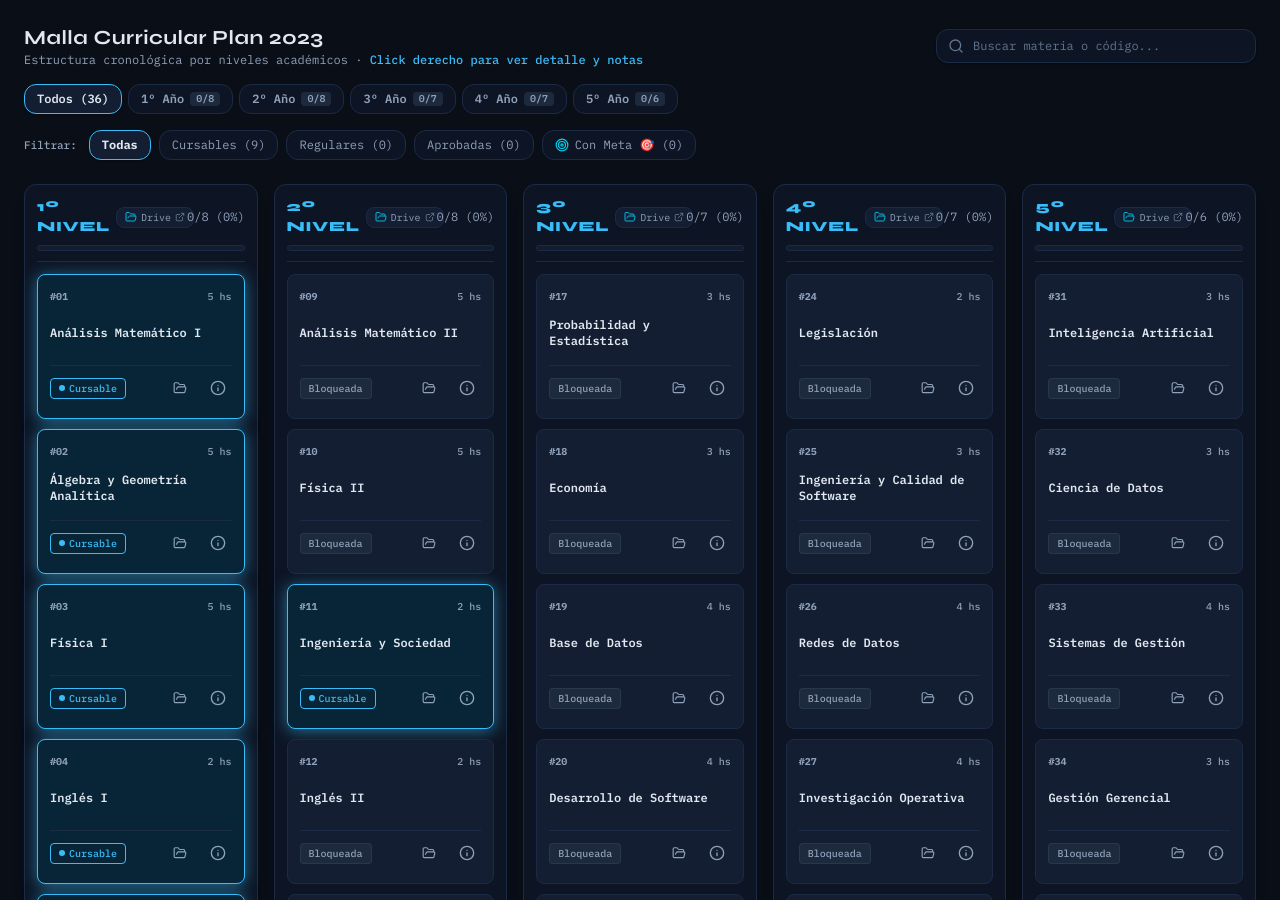
Test: Componentes de Vistas (GridView, ElectivasDrawer, GraphSkeleton) › GridView › debe permitir buscar materias por nombre o código mediante el input de búsqueda y limpiar
In the field with placeholder "Buscar materia o código...": (1096, 46) 936,29 -> 1256,63, type "Álgebra"
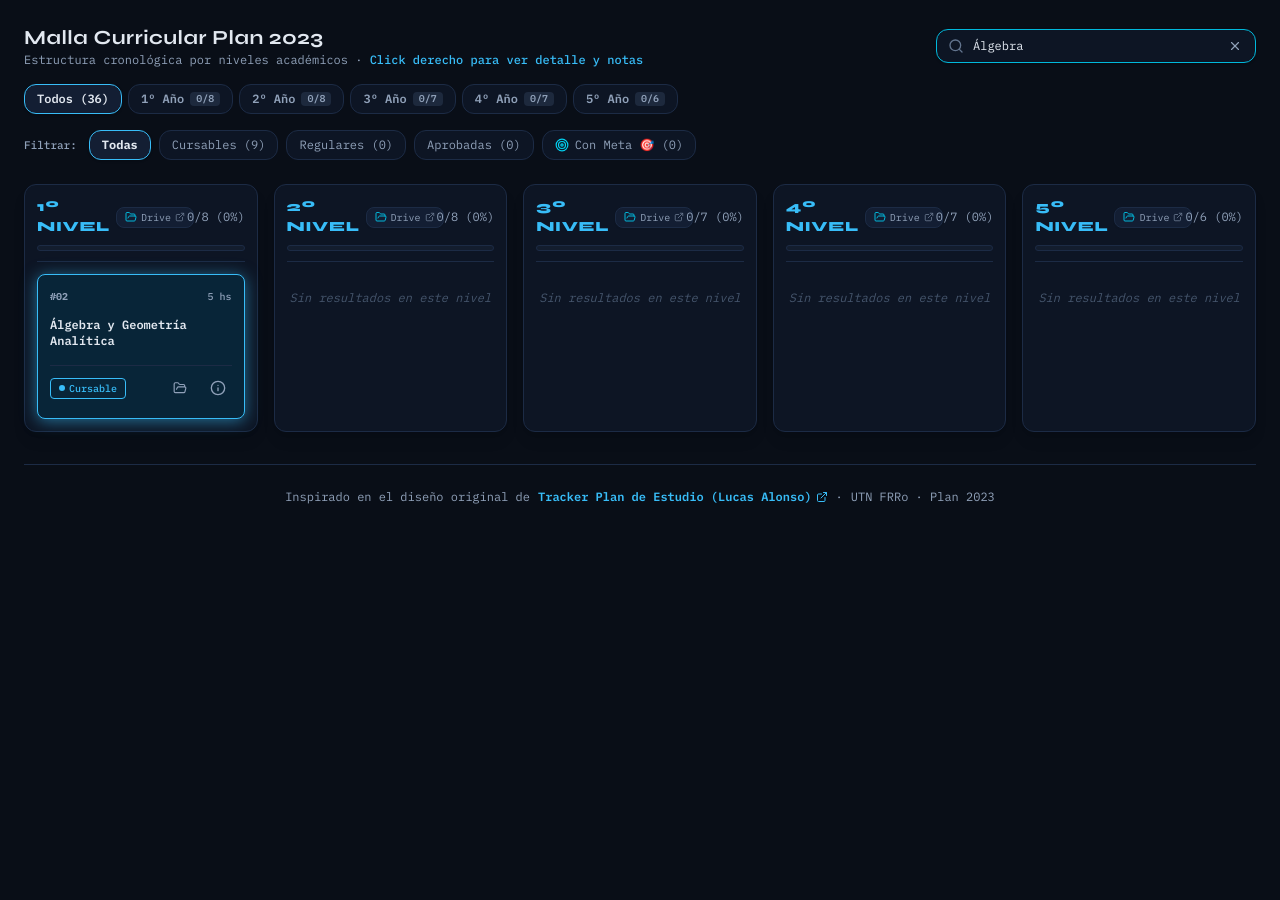
expect the text "Álgebra y Geometría Analítica" is shown: met, box 50,316 -> 187,348
// Limpiar búsqueda
Click the button named "Limpiar búsqueda": (1235, 46) 1224,35 -> 1246,57
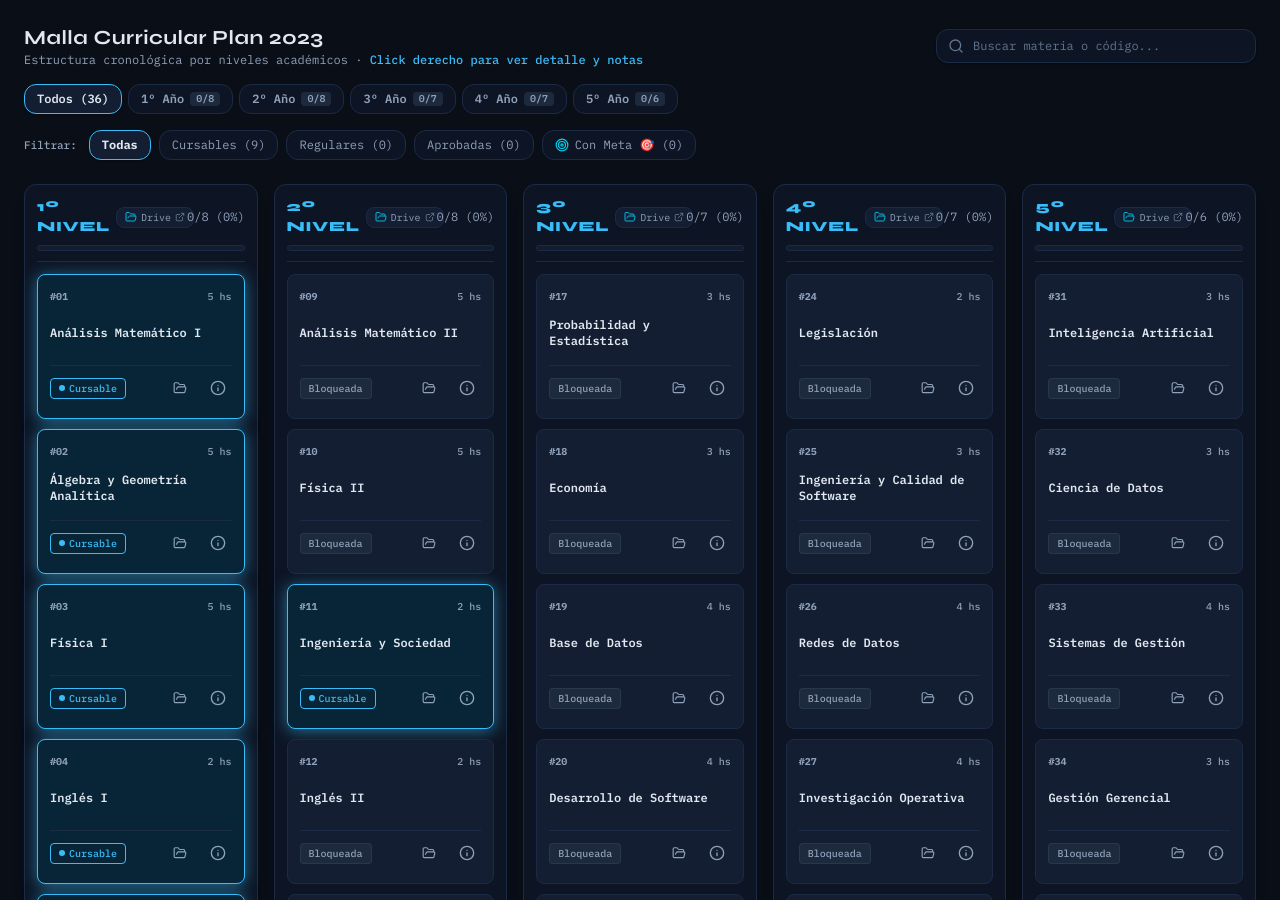
expect the field with placeholder "Buscar materia o código..." is empty: met, box 936,29 -> 1256,63
